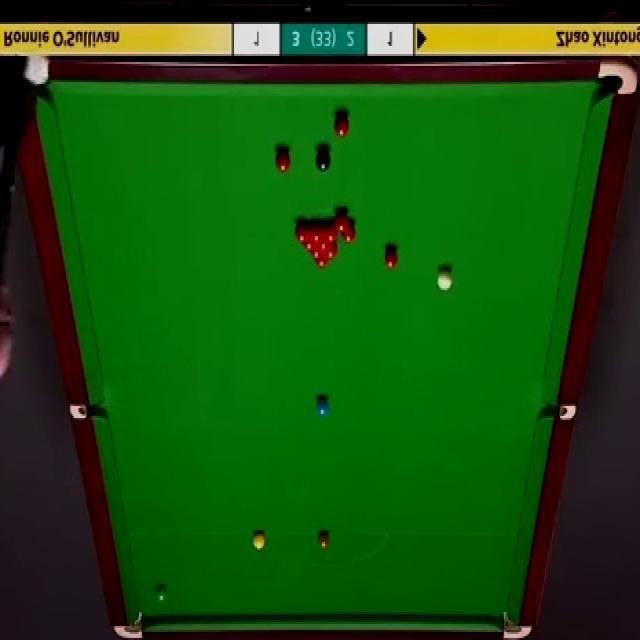black-ball: (316, 146, 332, 172)
blue-ball: (316, 397, 329, 416)
brown-ball: (317, 530, 330, 549)
green-ball: (155, 584, 167, 602)
red-ball: (274, 148, 291, 174), (335, 112, 350, 138), (324, 220, 339, 243), (384, 245, 398, 269), (294, 222, 309, 244), (342, 220, 356, 243), (334, 210, 348, 232), (309, 222, 323, 244), (325, 244, 338, 260), (312, 260, 330, 270), (308, 250, 324, 260), (316, 243, 332, 251), (302, 242, 316, 251)
white-ball: (436, 265, 453, 292)
yellow-ball: (252, 531, 264, 549)
